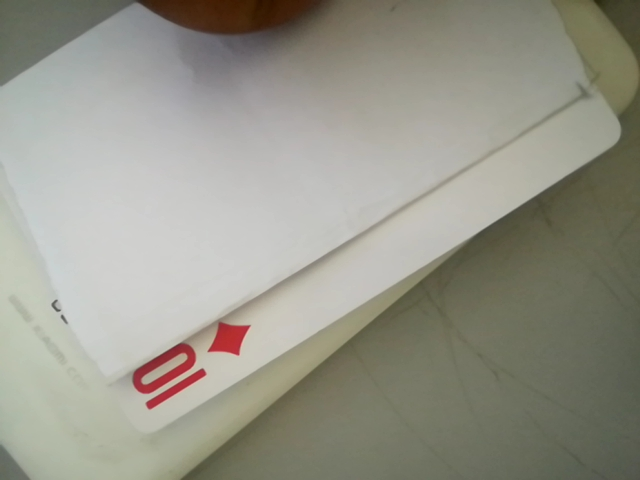fk 10: (113, 313, 261, 423)
